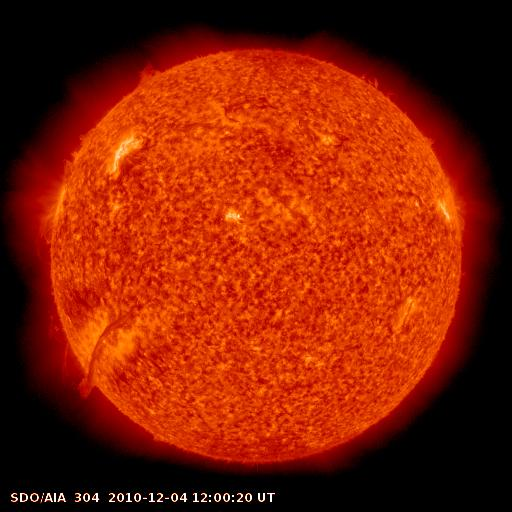prominence: (56, 345, 118, 420), (124, 46, 178, 100), (350, 62, 411, 107), (60, 123, 106, 180), (452, 184, 480, 243)
